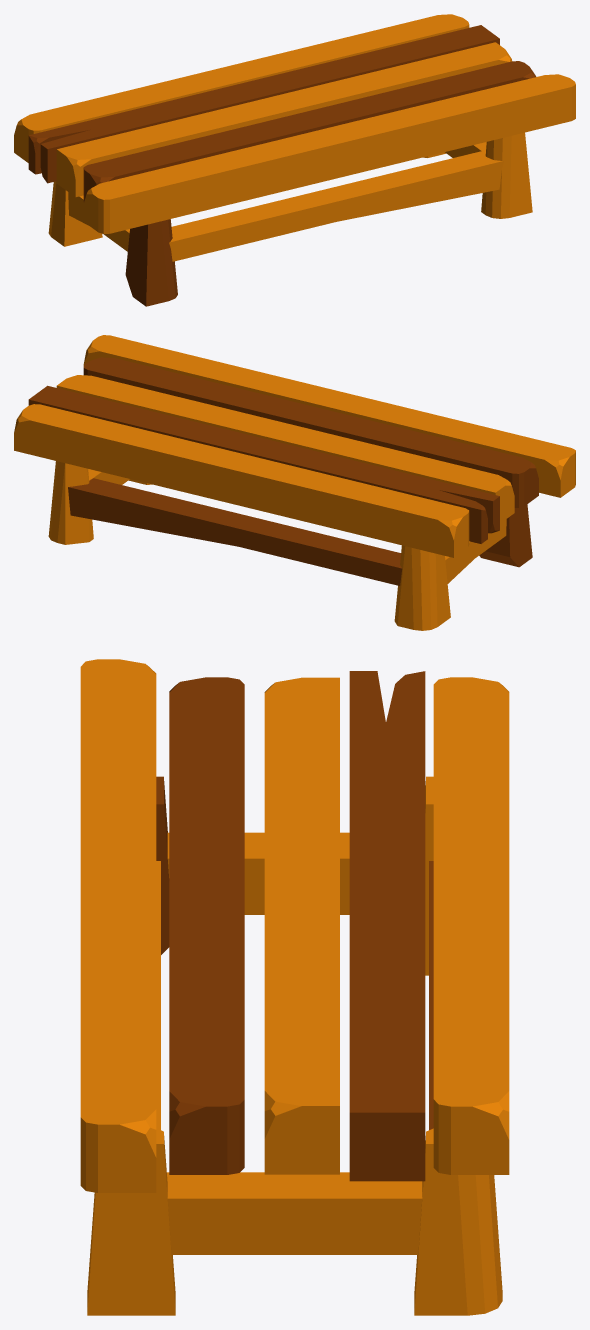
File: woodtable.fbx
3 renders of one model, top to bottom at view 1: azimuth 30°, elevation 25°; view 2: azimuth 150°, elevation 25°; view 3: azimuth 270°, elevation 25°, orthographic. The views are drawn at different scales.
Parts seen in each view (by area): view 1: table; view 2: table; view 3: table.
Part boxes in pixels (box(x1,y1,x2,y2)): table: box(14, 14, 575, 306); table: box(14, 335, 575, 630); table: box(80, 659, 509, 1315).
Bounding box in the file's own units: 119 × 27.98 × 46.2.
